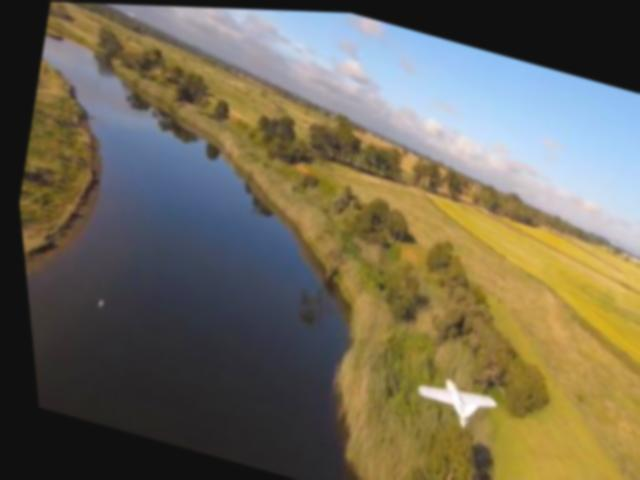uav: (402, 364, 498, 434)
